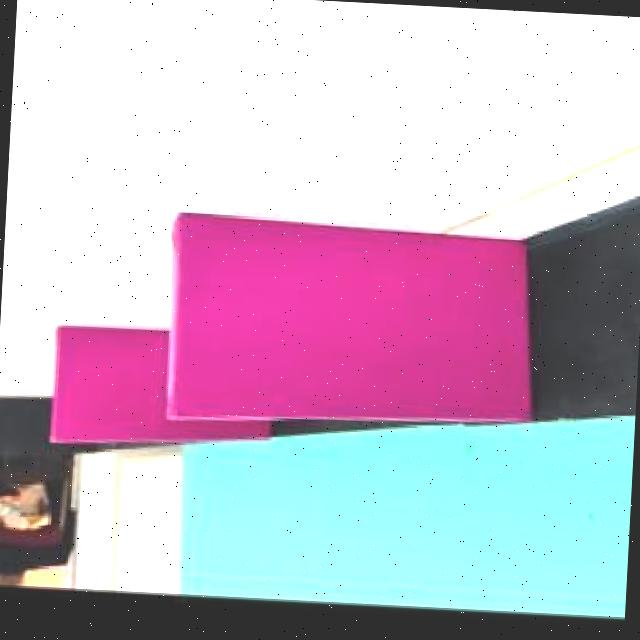xparking: (171, 211, 522, 416), (50, 324, 170, 441)
